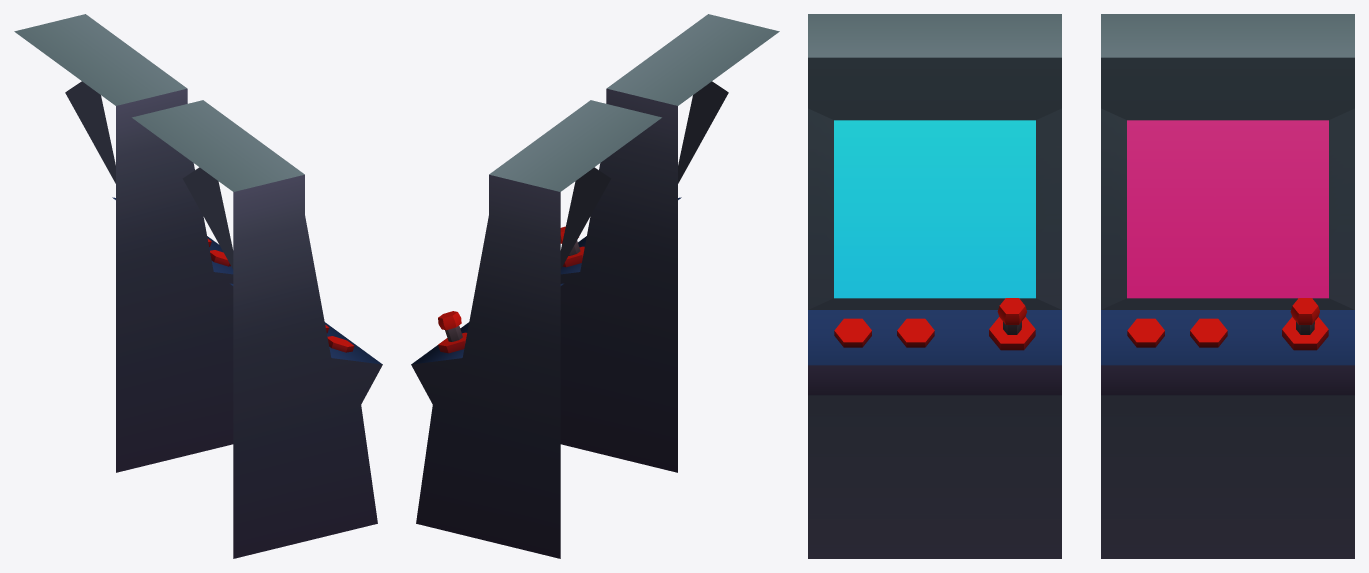
File: 1.100_SanFrancisco_extra_17.glb
The picture shows the model from 3 angles, left to right: view 1: azimuth 30°, elevation 25°; view 2: azimuth 150°, elevation 25°; view 3: azimuth 270°, elevation 25°; orthographic projection. The views are drawn at different scales.
Parts seen in each view (by area): view 1: 1.100_SanFrancisco_extra_17; view 2: 1.100_SanFrancisco_extra_17; view 3: 1.100_SanFrancisco_extra_17.
Part boxes in pixels (bbox=[...]): 1.100_SanFrancisco_extra_17: bbox=[14, 14, 382, 558]; 1.100_SanFrancisco_extra_17: bbox=[411, 14, 779, 558]; 1.100_SanFrancisco_extra_17: bbox=[808, 14, 1354, 558].
Bounding box in the file's own units: 12.99 × 30.46 × 33.03.
Materials: 1 (1 with a texture image).
